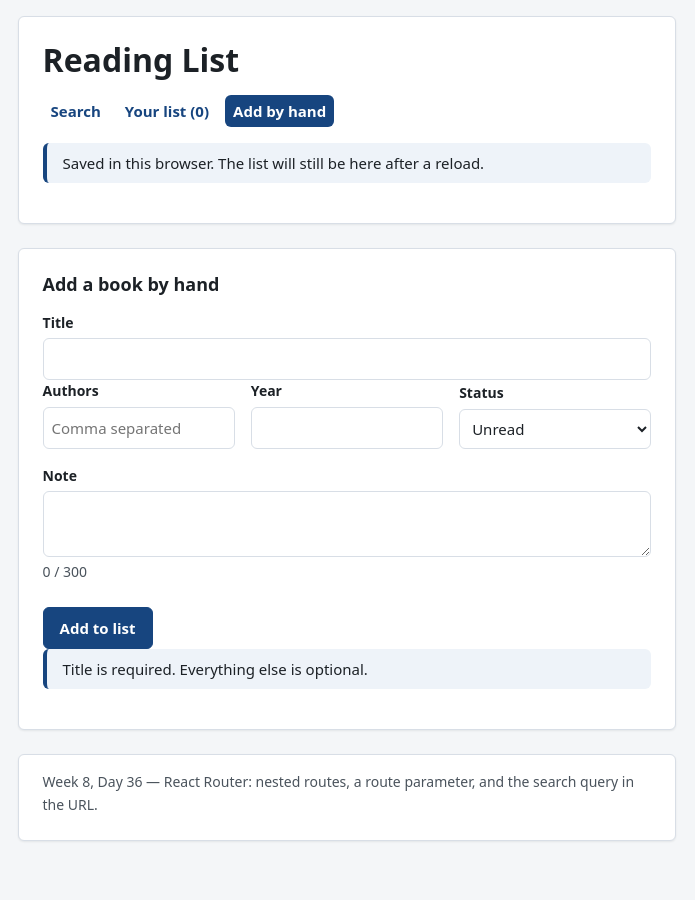
Test: the form's error summary › disappears once the form is valid
Click the button "Add to list". click: {"x": 98, "y": 628}
box: [42,608,153,650]
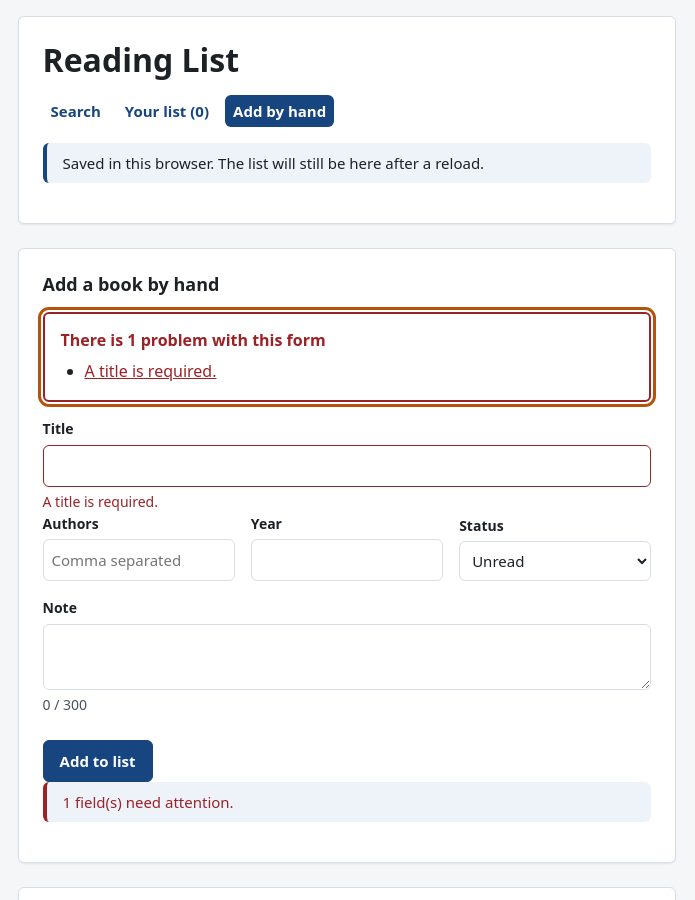
Expected: the message "There is 1 problem with this form A title is required." is shown, [42,312,651,402]
Type "Fixed" into the field labelled "Title". click: {"x": 347, "y": 466}
box: [42,445,651,487]
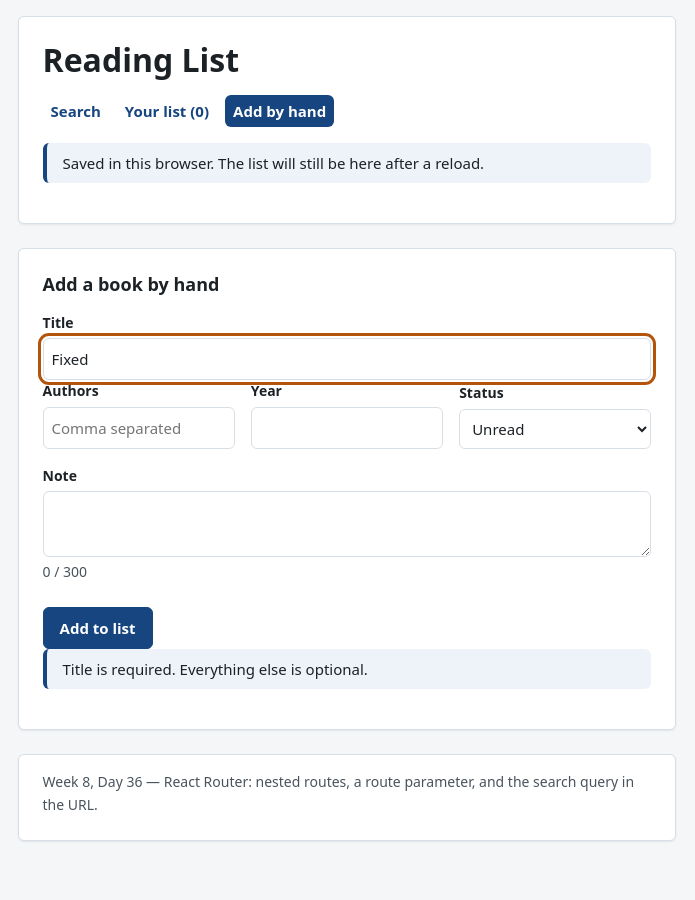
Click the button "Add to list". click: {"x": 98, "y": 628}
box: [42,608,153,650]
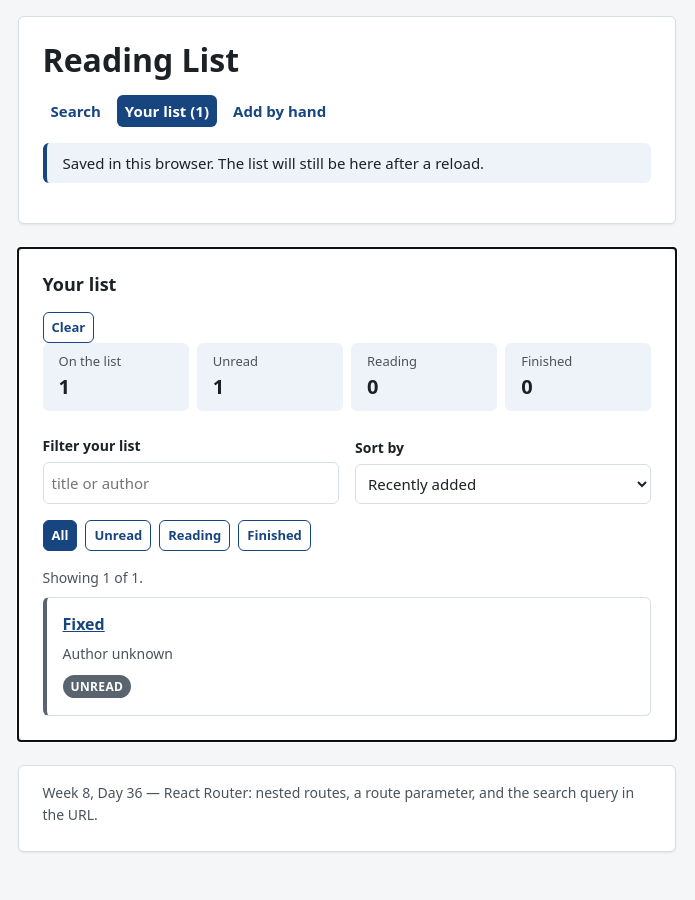
Expected: the message "Title is required. Everything else is optional." is gone
